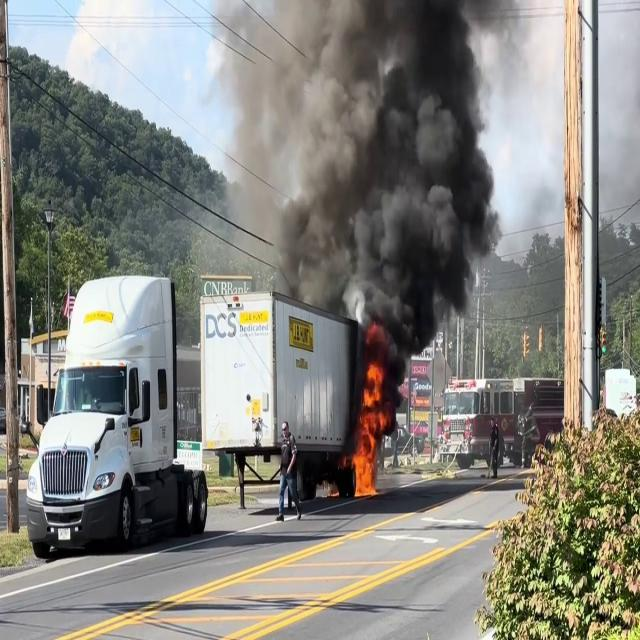Fire: (345, 357, 388, 500)
Smoke: (216, 0, 522, 352)
